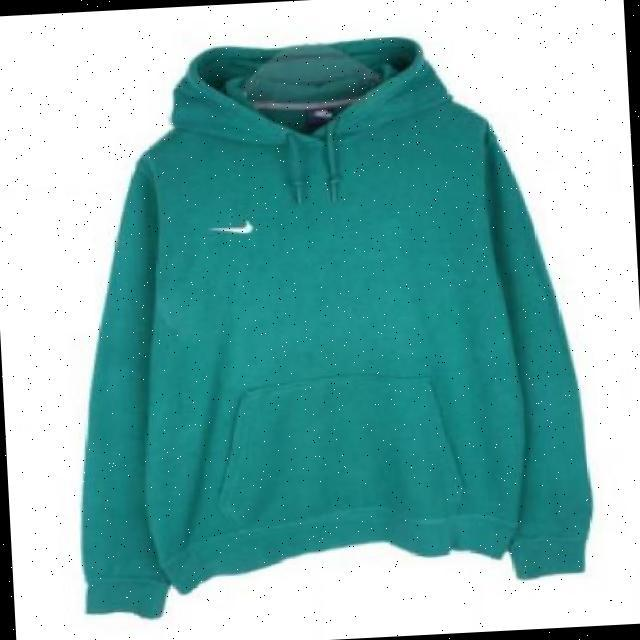Nike: (215, 216, 258, 236)
